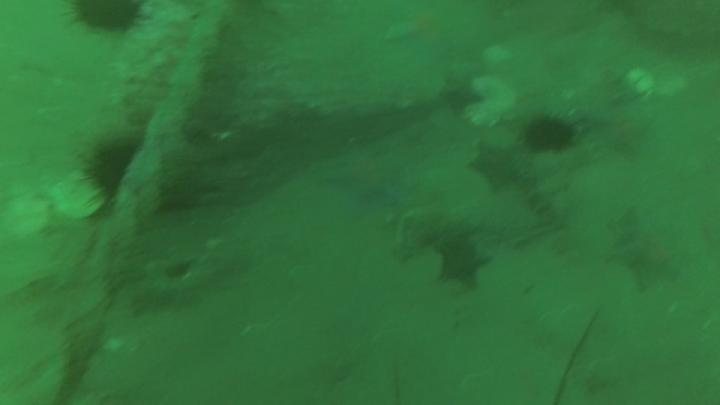echinus: (89, 146, 137, 195), (73, 1, 139, 34), (526, 116, 572, 151)
scallop: (51, 173, 104, 220)
starfish: (327, 156, 412, 213), (432, 239, 493, 289), (468, 144, 520, 191), (442, 74, 482, 115)
